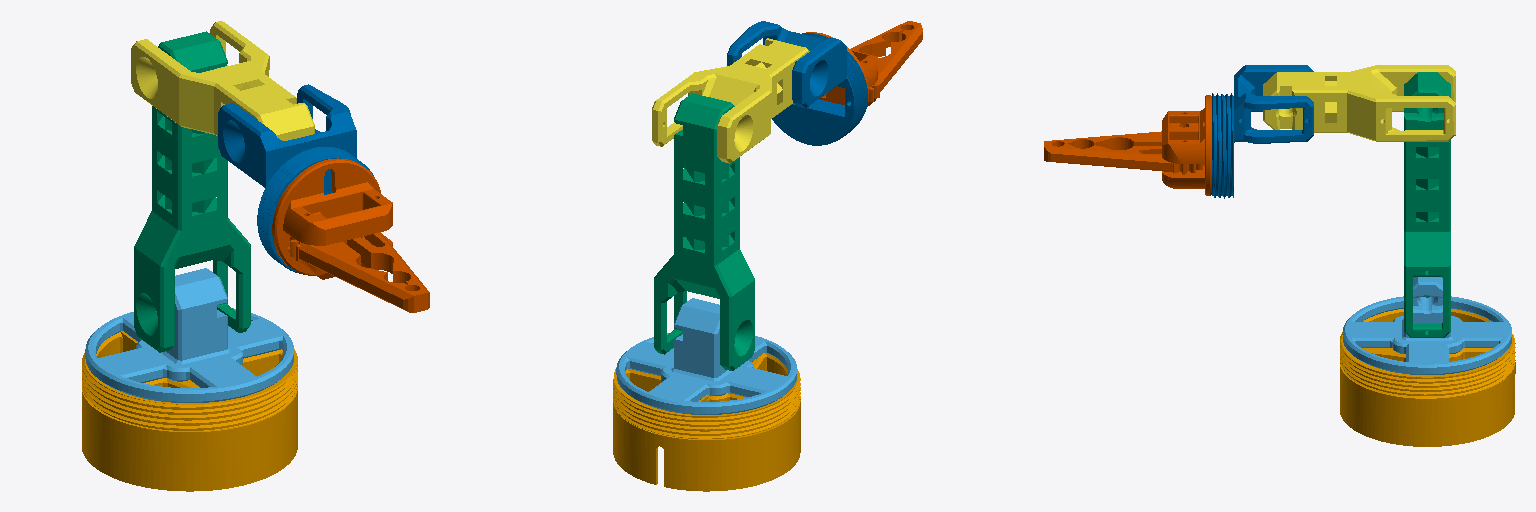
URDF robot description (armrobot_description):
<robot name="armrobot_description">
    <link name="base_link">
        
        <visual>
            <geometry>
                <mesh filename="package://armrobot/meshes/base_link v1.stl" scale="0.001 0.001 0.001" />
            </geometry>
        </visual>
    </link>

    <joint name="joint_1" type="revolute">
        <origin xyz="0.0 0.0 0.0325" rpy="0.0 0.0 0.0"/>
        <parent link="base_link"/>
        <child link="link1"/>
        <axis xyz="0.0 0.0 1.0"/>
        <limit lower="-3.14" upper="3.14" effort="0.0" velocity="0.0"/>
    </joint>

    <link name="link1">
       
        <visual> 
        <origin xyz="0.0 0.0 0.0" rpy="0.0 0.0 0.0"/>
            <geometry>
                <mesh filename="package://armrobot/meshes/Base_rotator v1.stl" scale="0.001 0.001 0.001" />
            </geometry>
        </visual>
    </link>

    <joint name="joint_2" type="revolute">
        <origin xyz="-0.010 0.0 0.021442" rpy="0.0 0.0 0.0"/>
        <parent link="link1"/>
        <child link="link2"/>
        <axis xyz="1.0 0.0 0.0"/>
        <limit lower="-1.57" upper="1.57" effort="0.0" velocity="0.0"/>
    </joint>
    
    
    <link name="link2">
       
        <visual> 
            <geometry>
                <mesh filename="package://armrobot/meshes/Arm90mm v1.stl" scale="0.001 0.001 0.001" />
            </geometry>
        </visual>
    </link>


    <joint name="joint_3" type="revolute">
        <origin xyz="0.0 0.0 0.09" rpy="0.0 0.0 0.0"/>
        <parent link="link2"/>
        <child link="link3"/>
        <axis xyz="1.0 0.0 0.0"/>
        <limit lower="-1.57" upper="1.57" effort="0.0" velocity="0.0"/>
    </joint>

    <link name="link3">
       
        <visual> 
            <geometry>
                <mesh filename="package://armrobot/meshes/Arm60mm v1.stl" scale="0.001 0.001 0.001" />
            </geometry>
        </visual>
    </link>

    <joint name="joint_4" type="revolute">
        <origin xyz="0.0 -0.06 0.0" rpy="0.0 0.0 0.0"/>
        <parent link="link3"/>
        <child link="link4"/>
        <axis xyz="1.0 0.0 0.0"/>
        <limit lower="-1.57" upper="1.57" effort="0.0" velocity="0.0"/>
    </joint>

    <link name="link4">
       
        <visual> 
            <geometry>
                <mesh filename="package://armrobot/meshes/ArmWrist v1.stl" scale="0.001 0.001 0.001" />
            </geometry>
        </visual>
    </link>

    <joint name="joint_5" type="revolute">
        <origin xyz="0.011072 -0.0315 -0.019757" rpy="0.0 0.0 0.0"/>
        <parent link="link4"/>
        <child link="link5"/>
        <axis xyz="0.0 -1.0 0.0"/>
        <limit lower="-1.57" upper="1.57" effort="0.0" velocity="0.0"/>
    </joint>

    <link name="link5">
       
        <visual> 
            <geometry>
                <mesh filename="package://armrobot/meshes/Hand v1.stl" scale="0.001 0.001 0.001" />
            </geometry>
        </visual>
    </link>
</robot>

--- Render facts (derived) ---
Views: 3 orthographic renders of the robot side by side, from view 1: azimuth 30°, elevation 25°; view 2: azimuth 150°, elevation 25°; view 3: azimuth 270°, elevation 25°.
Robot: armrobot_description — 6 links, 5 joints (5 revolute); root link base_link; default pose: every joint at zero.
Visible links, largest first — view 1: base_link, link2, link1, link5, link3, link4; view 2: link2, base_link, link1, link3, link4, link5; view 3: base_link, link3, link2, link1, link5, link4.
Boxes of the visible links, <box> form: base_link: <box>82,331,297,491</box>; link2: <box>134,31,250,352</box>; link1: <box>85,268,293,402</box>; link5: <box>272,158,429,312</box>; link3: <box>131,21,314,140</box>; link4: <box>218,84,373,274</box>; link2: <box>654,93,754,370</box>; base_link: <box>613,348,800,491</box>; link1: <box>616,298,796,414</box>; link3: <box>652,38,809,163</box>; link4: <box>727,21,867,145</box>; link5: <box>806,21,922,106</box>; base_link: <box>1340,309,1515,446</box>; link3: <box>1263,65,1455,141</box>; link2: <box>1404,72,1450,337</box>; link1: <box>1343,277,1511,374</box>; link5: <box>1044,95,1211,195</box>; link4: <box>1212,65,1313,198</box>.
Bounding box of the posed robot: 0.0746 × 0.1998 × 0.154 m (x, y, z).
6 mesh visuals loaded from 6 distinct referenced files (6 binary STL).